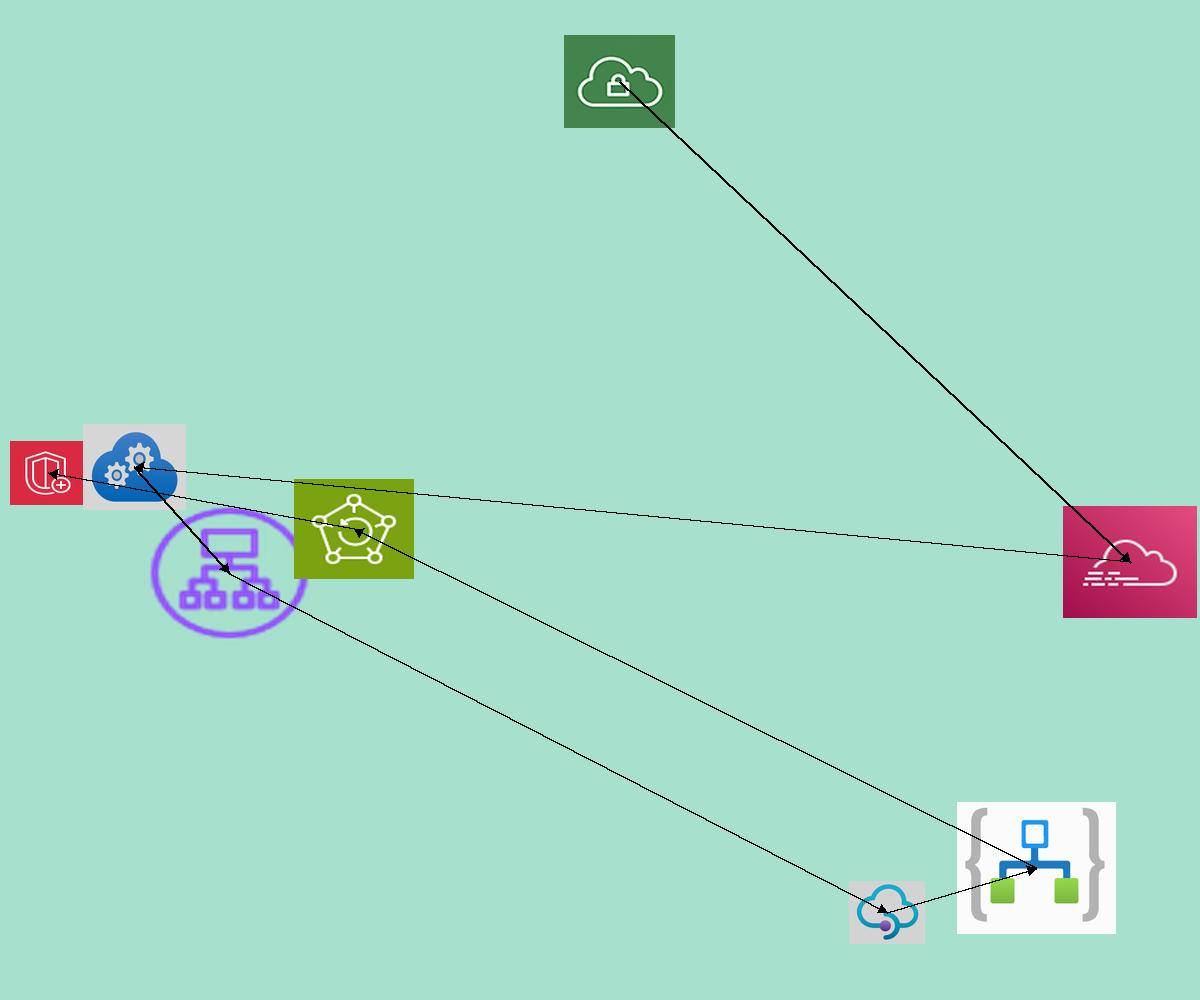AWS-Backup: (294, 479, 414, 579)
AWS-CloudTrail: (1063, 506, 1197, 618)
AWS-Private_vpc: (564, 35, 675, 128)
AWS-Res_Elastic-Load-Balancing_Application-Load-Balancer: (144, 502, 315, 644)
AWS-Shield: (10, 441, 87, 505)
Azure_api_gateway: (849, 881, 925, 944)
Azure_cloud_services: (83, 424, 186, 510)
Azure_integration-204-Logic-Apps: (957, 802, 1116, 934)
